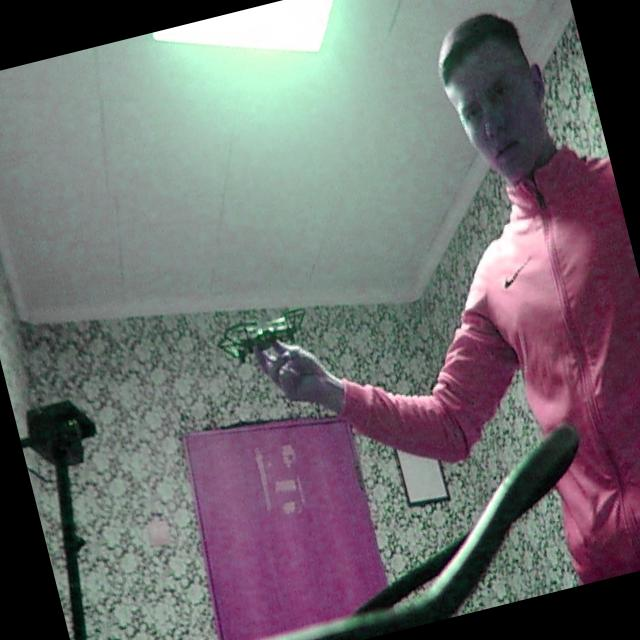drone: (202, 286, 328, 390)
